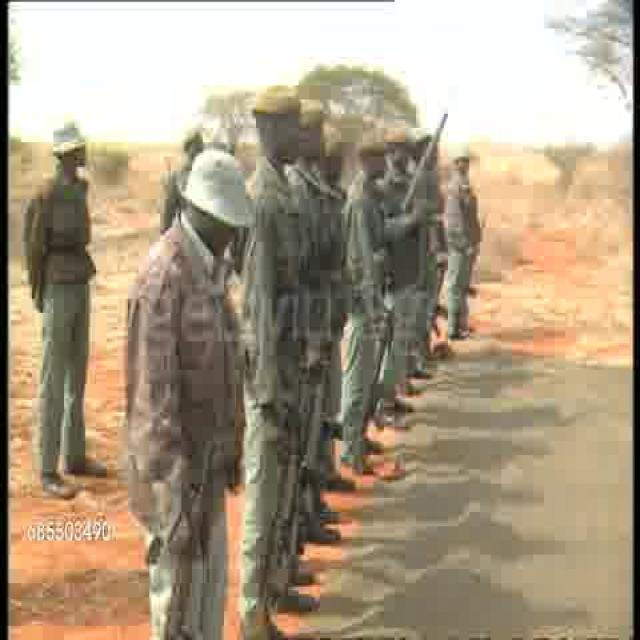poacher: (110, 142, 254, 615), (8, 92, 118, 506), (234, 83, 310, 602), (345, 137, 387, 455), (384, 128, 422, 409), (444, 139, 486, 329)
weapon: (396, 112, 450, 214)
